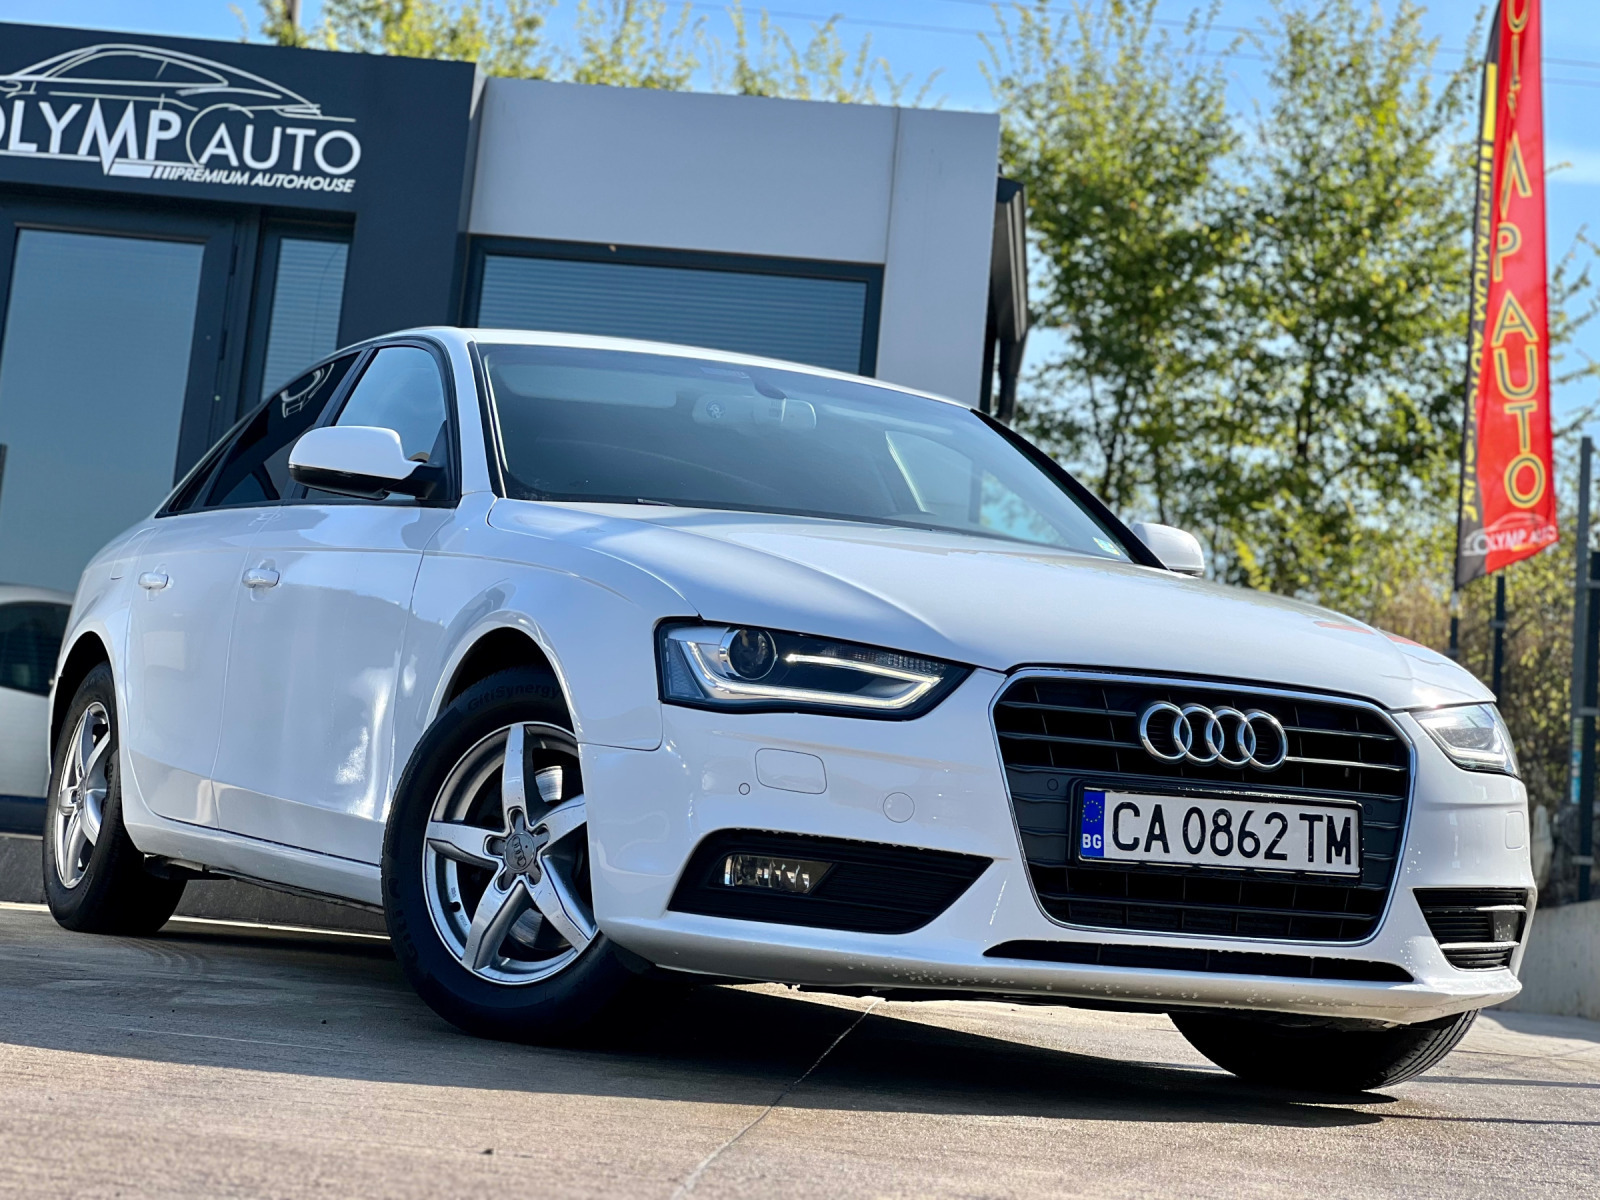registration_plate: (1076, 784, 1365, 880)
